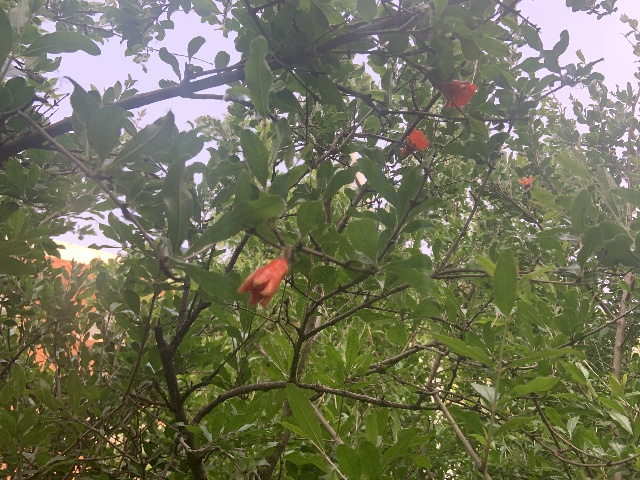flower: (236, 257, 288, 306), (440, 79, 477, 110), (400, 127, 429, 157), (517, 174, 535, 189)
